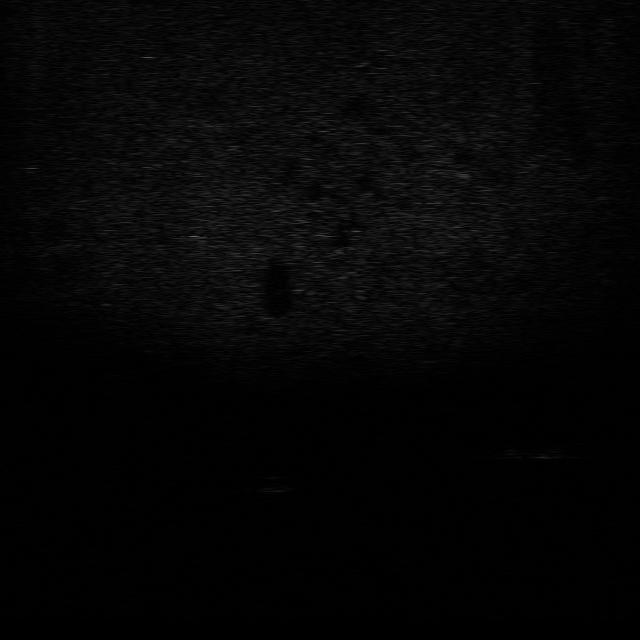ball: (252, 473, 294, 497)
human body: (488, 436, 588, 462)
